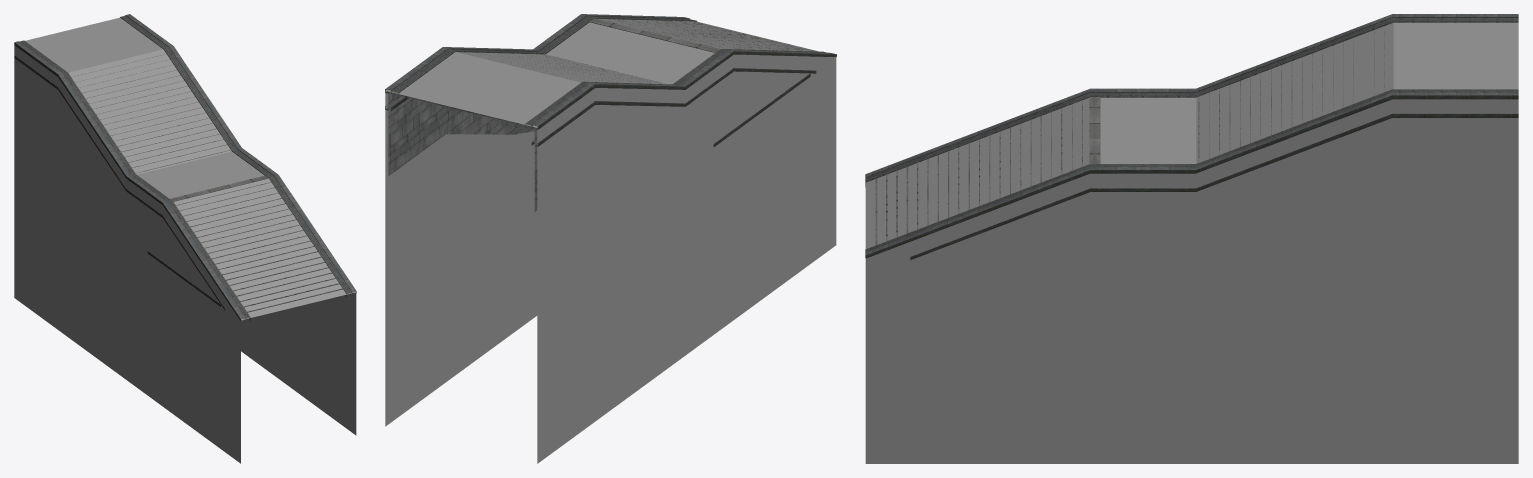
3 views of the same model, side by side, from view 1: azimuth 30°, elevation 25°; view 2: azimuth 150°, elevation 25°; view 3: azimuth 270°, elevation 25° (orthographic). The views are drawn at different scales.
Visible parts, largest first — view 1: Scene_Object_Di_2_Xzm, Scene_Object_Di_2; view 2: Scene_Object_Di_2_Xzm, Scene_Object_Di_2; view 3: Scene_Object_Di_2_Xzm, Scene_Object_Di_2.
Boxes of the visible parts, x1=… form: Scene_Object_Di_2_Xzm: x1=14, y1=17, x2=356, y2=463; Scene_Object_Di_2: x1=14, y1=14, x2=356, y2=321; Scene_Object_Di_2_Xzm: x1=385, y1=19, x2=836, y2=463; Scene_Object_Di_2: x1=385, y1=14, x2=836, y2=211; Scene_Object_Di_2_Xzm: x1=865, y1=22, x2=1518, y2=463; Scene_Object_Di_2: x1=865, y1=14, x2=1518, y2=259.
Bounding box in the file's own units: 1281 × 2708 × 4350.
